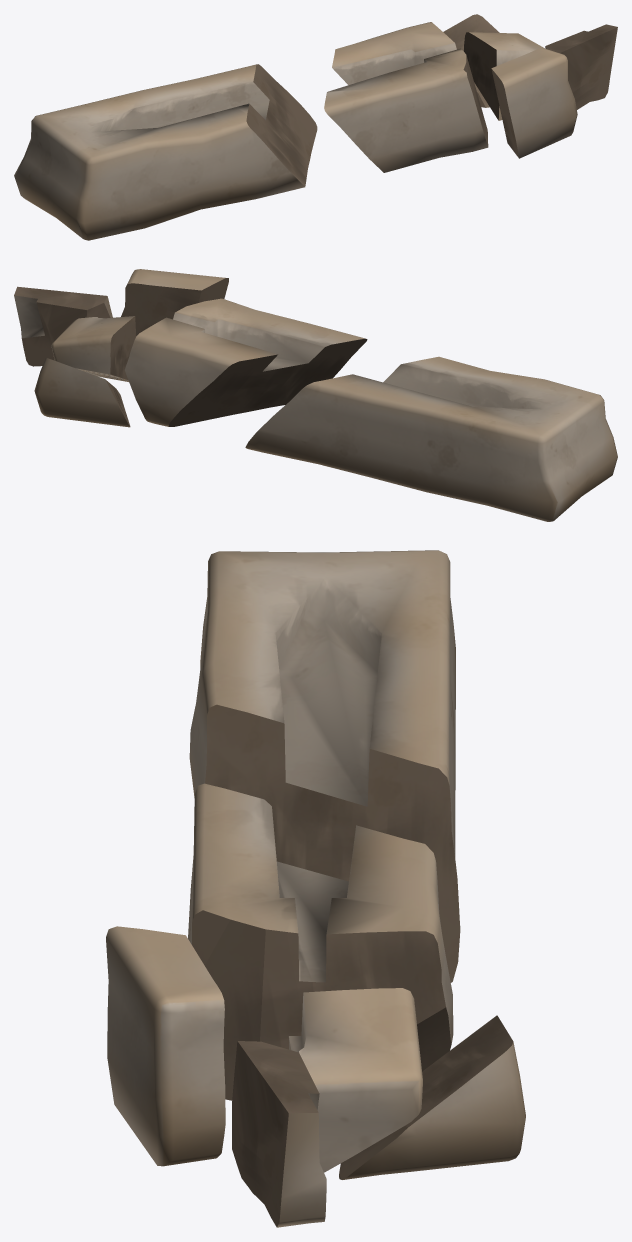
Rendered from SM_SHTRD_Sword.fbx.
3 views of the same model, one above another, from view 1: azimuth 30°, elevation 25°; view 2: azimuth 150°, elevation 25°; view 3: azimuth 270°, elevation 25° (orthographic). The views are drawn at different scales.
Parts seen in each view (by area): view 1: SM_Mold.003_cell.004; view 2: SM_Mold.003_cell.004; view 3: SM_Mold.003_cell.004.
Part boxes in pixels (x1,y1,x2,y2): SM_Mold.003_cell.004: (14, 14, 617, 240); SM_Mold.003_cell.004: (14, 269, 617, 521); SM_Mold.003_cell.004: (106, 550, 525, 1227).
Size of the model in its own units: 88.06 by 12.29 by 28.37.
